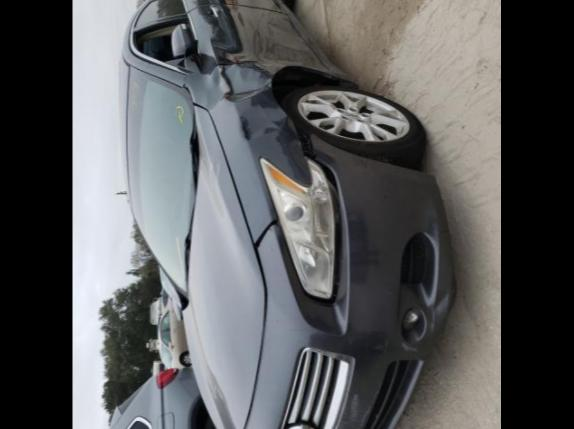Broken part: (286, 114, 352, 312), (178, 62, 218, 108), (252, 214, 282, 251)
Dent: (212, 2, 322, 66), (182, 62, 272, 110), (238, 104, 290, 142), (200, 154, 220, 216)
Missing part: (134, 18, 188, 60)
Scratch: (356, 382, 380, 429), (350, 390, 360, 420), (402, 342, 418, 350), (384, 336, 388, 348)
